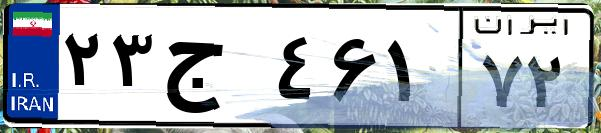1: (385, 28, 445, 110)
2: (57, 26, 110, 100), (525, 38, 570, 115)
3: (110, 28, 158, 98)
4: (270, 28, 330, 110)
6: (330, 28, 385, 110)
7: (475, 38, 525, 113)
ج: (158, 20, 270, 120)
